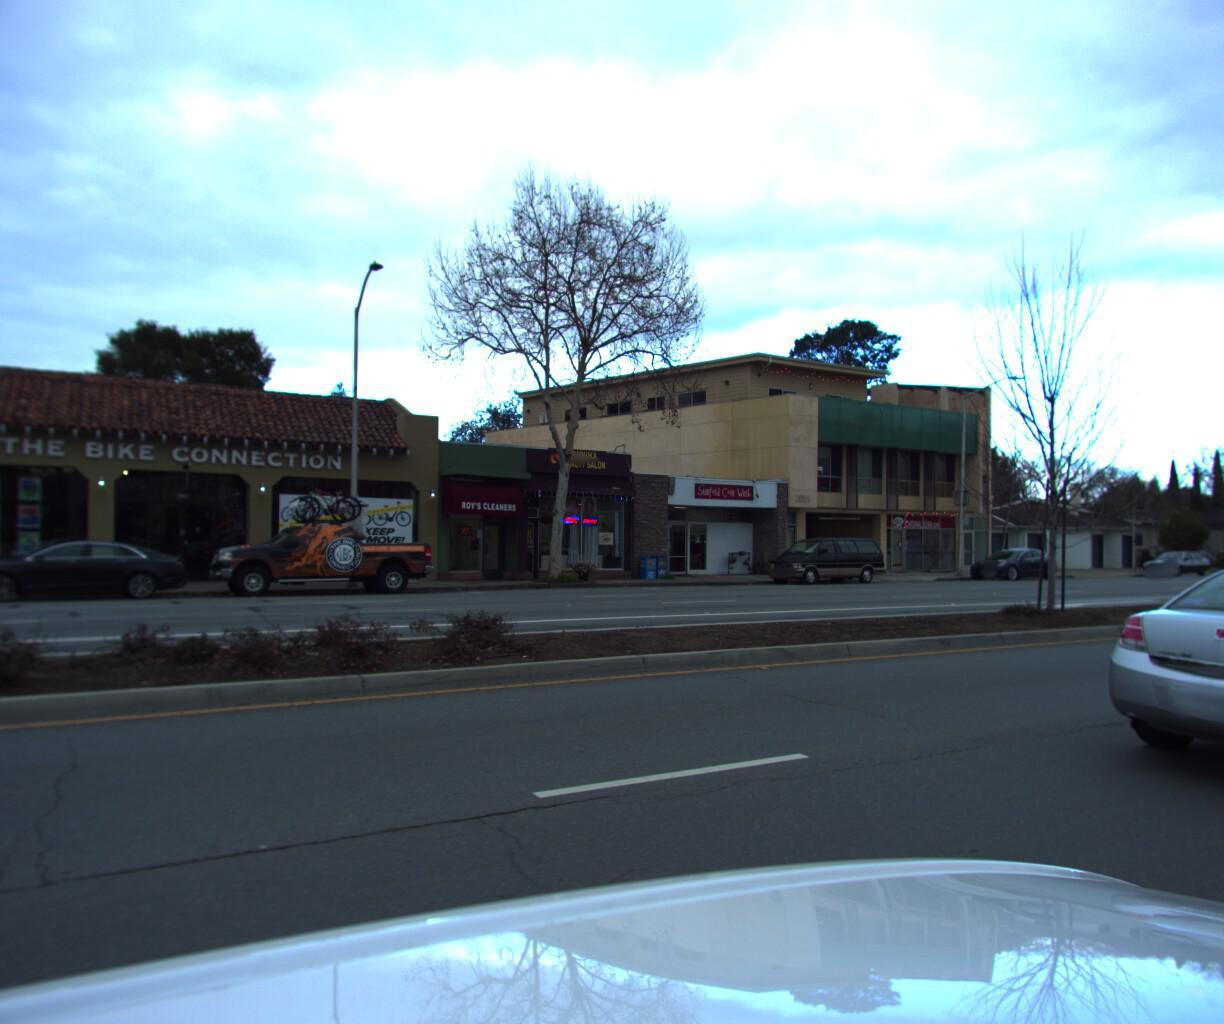car: (1079, 554, 1224, 834), (201, 527, 440, 602), (0, 534, 196, 609), (756, 532, 888, 584), (958, 542, 1062, 580), (1127, 544, 1209, 574)
